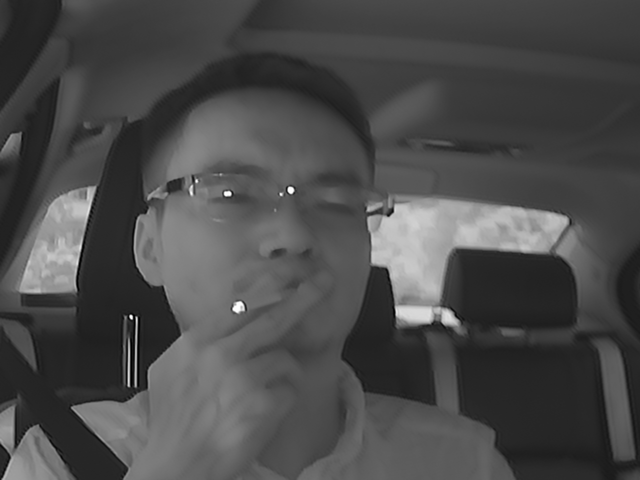hand: (193, 267, 327, 423)
